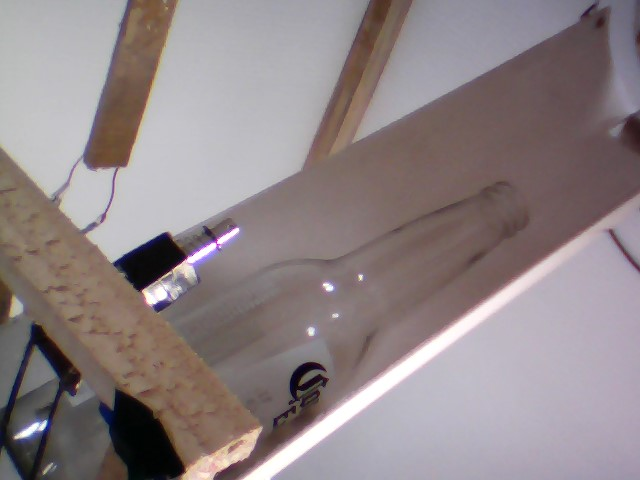vidrio: (175, 173, 546, 434)
